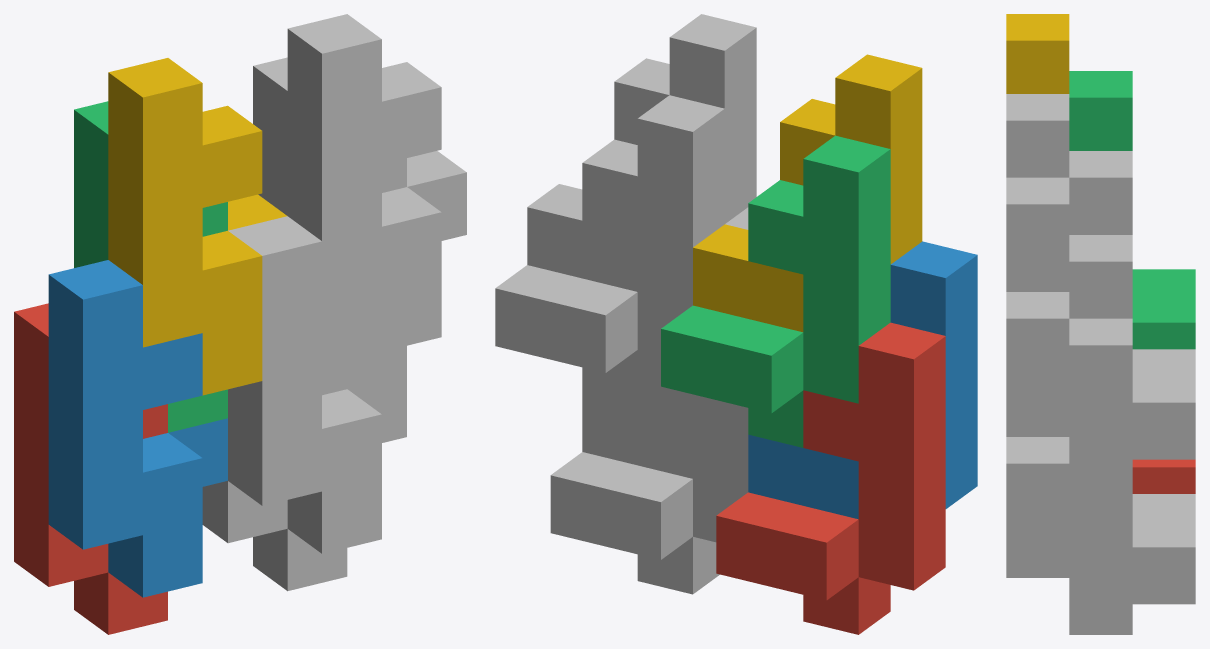
The model's file is tiling.obj.
3 views of the same model, side by side, from view 1: azimuth 30°, elevation 25°; view 2: azimuth 150°, elevation 25°; view 3: azimuth 270°, elevation 25° (orthographic). The views are drawn at different scales.
Parts seen in each view (by area): view 1: copy_1_domain_2, copy_1_domain_8, copy_1_domain_4, copy_1_domain_6, copy_1_domain_1, copy_1_domain_5, copy_1_domain_3, copy_1_domain_7; view 2: copy_1_domain_1, copy_1_domain_3, copy_1_domain_7, copy_1_domain_5, copy_1_domain_4, copy_1_domain_8, copy_1_domain_2, copy_1_domain_6; view 3: copy_1_domain_8, copy_1_domain_7, copy_1_domain_6, copy_1_domain_5, copy_1_domain_3, copy_1_domain_4, copy_1_domain_1.
Boxes of the visible parts, x1,y1,x2,y2 form: copy_1_domain_2: (48, 260, 227, 597); copy_1_domain_8: (287, 14, 466, 351); copy_1_domain_4: (108, 58, 287, 395); copy_1_domain_6: (228, 216, 406, 553); copy_1_domain_1: (14, 303, 167, 634); copy_1_domain_5: (202, 360, 347, 591); copy_1_domain_3: (74, 101, 227, 432); copy_1_domain_7: (253, 57, 406, 388); copy_1_domain_1: (716, 322, 945, 634); copy_1_domain_3: (661, 135, 890, 447); copy_1_domain_7: (495, 95, 724, 407); copy_1_domain_5: (550, 350, 748, 594); copy_1_domain_4: (693, 54, 922, 332); copy_1_domain_8: (527, 14, 756, 291); copy_1_domain_2: (748, 241, 977, 519); copy_1_domain_6: (582, 207, 748, 478); copy_1_domain_8: (1006, 94, 1132, 432); copy_1_domain_7: (1069, 151, 1195, 490); copy_1_domain_6: (1006, 433, 1132, 577); copy_1_domain_5: (1069, 494, 1195, 634); copy_1_domain_3: (1069, 71, 1195, 349); copy_1_domain_4: (1006, 14, 1069, 93); copy_1_domain_1: (1132, 459, 1195, 493).
Size of the model in its own units: 7 by 9 by 3.
